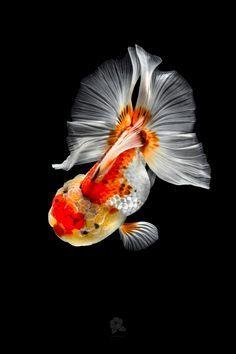goldfish: (24, 46, 222, 265)
